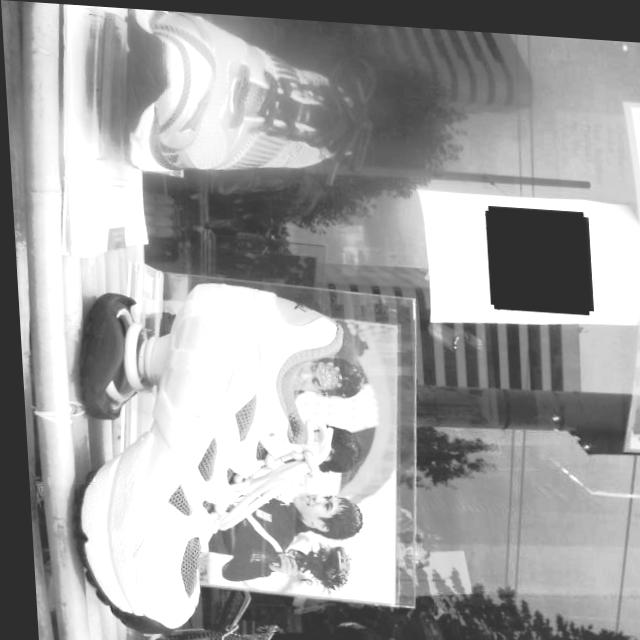qr_code: (483, 201, 587, 306)
